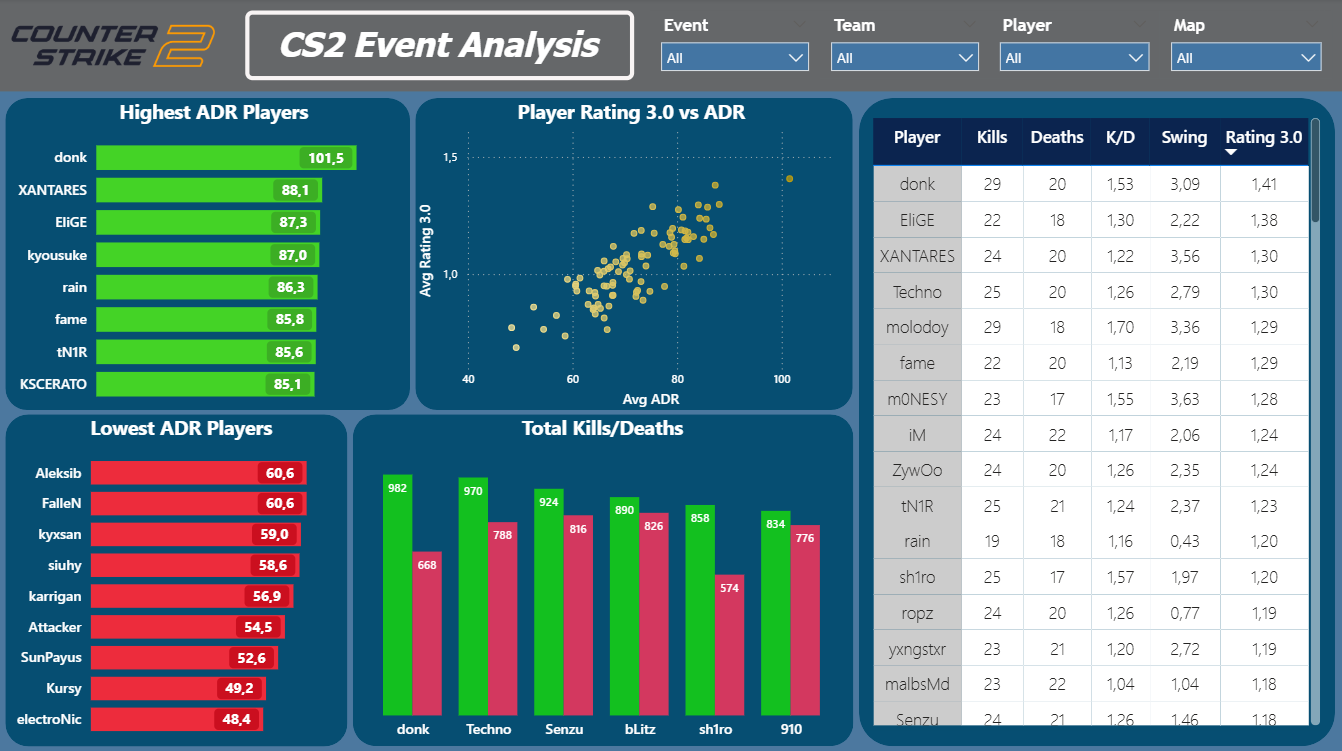

This screenshot's page, from the dashboard's own definition file:
{"tool":"powerbi","page":{"name":"Players Insights","canvas":[1280,720],"ordinal":1},"visuals":[{"type":"shape","box":[336.9,396.9,476.9,316.2],"z":0},{"type":"shape","box":[6.1,95,385.6,297.2],"z":1000},{"type":"shape","box":[819.3,95.3,453.3,617.3],"z":2000},{"type":"shape","box":[6,397,326,316.5],"z":3000},{"type":"tableEx","fields":{"Values":["Players_data.Player","Players_data.Player Avg Kills","Players_data.Player Avg Deaths","Players_data.Player K/D","Players_data.Player Avg Rating 3.0","Players_data.Player Avg Rating 3.01"]},"box":[826.7,109.3,437.3,588],"z":4000},{"type":"clusteredBarChart","title":"Highest ADR Players","fields":{"Y":["Players_data.Tournament Avg ADR"],"Category":["Players_data.Player"]},"box":[16.1,95,375.6,297.2],"z":5000},{"type":"clusteredBarChart","title":"Lowest ADR Players","fields":{"Y":["Players_data.Tournament Avg ADR"],"Category":["Players_data.Player"]},"box":[16,397,316,314],"z":6000},{"type":"clusteredColumnChart","title":"Total Kills/Deaths","fields":{"Y":["Players_data.Player Sum Kills","Players_data.Player Sum Deaths"],"Category":["Players_data.Player"]},"box":[336.9,396.9,475.4,313.8],"z":7000},{"type":"shape","box":[396.7,95,416.7,297.2],"z":8000},{"type":"scatterChart","title":"Player  Rating 3.0 vs ADR","fields":{"X":["Players_data.Player Avg ADR"],"Y":["Players_data.Player Avg Rating 3.0"],"Category":["Players_data.Player"]},"box":[400.4,95,404.2,294.6],"z":9000},{"type":"shape","box":[0,0,1280,89],"z":10000},{"type":"slicer","fields":{"Values":["Players_data.Team"]},"box":[781.8,12.2,161.3,64.7],"z":11000},{"type":"slicer","fields":{"Values":["Players_data.Player"]},"box":[943.1,12.2,162.5,64.7],"z":12000},{"type":"slicer","fields":{"Values":["Players_data.Map"]},"box":[1105.6,12.2,163.7,64.7],"z":13000},{"type":"textbox","box":[235,11.7,370,66.7],"z":14000},{"type":"slicer","fields":{"Values":["Matches_data.Event"]},"box":[620.6,12.2,161.3,74.5],"z":15000},{"type":"image","box":[6.7,6.7,203.3,76.7],"z":16000}]}

Visuals, with their boxes in screenshot pixels (x1, y1, x2, y2), scaled from the page's 1280x720 canvas onto the 1342x751 screenshot:
shape: {"left": 353, "top": 414, "right": 853, "bottom": 744}
shape: {"left": 6, "top": 99, "right": 411, "bottom": 409}
shape: {"left": 859, "top": 99, "right": 1334, "bottom": 743}
shape: {"left": 6, "top": 414, "right": 348, "bottom": 744}
tableEx - Players_data.Player x Players_data.Player Avg Kills: {"left": 867, "top": 114, "right": 1325, "bottom": 727}
"Highest ADR Players" clusteredBarChart: {"left": 17, "top": 99, "right": 411, "bottom": 409}
"Lowest ADR Players" clusteredBarChart: {"left": 17, "top": 414, "right": 348, "bottom": 742}
"Total Kills/Deaths" clusteredColumnChart: {"left": 353, "top": 414, "right": 852, "bottom": 741}
shape: {"left": 416, "top": 99, "right": 853, "bottom": 409}
"Player  Rating 3.0 vs ADR" scatterChart: {"left": 420, "top": 99, "right": 844, "bottom": 406}
shape: {"left": 0, "top": 0, "right": 1341, "bottom": 93}
slicer - Players_data.Team: {"left": 820, "top": 13, "right": 989, "bottom": 80}
slicer - Players_data.Player: {"left": 989, "top": 13, "right": 1159, "bottom": 80}
slicer - Players_data.Map: {"left": 1159, "top": 13, "right": 1331, "bottom": 80}
textbox: {"left": 246, "top": 12, "right": 634, "bottom": 82}
slicer - Matches_data.Event: {"left": 651, "top": 13, "right": 820, "bottom": 90}
image: {"left": 7, "top": 7, "right": 220, "bottom": 87}
